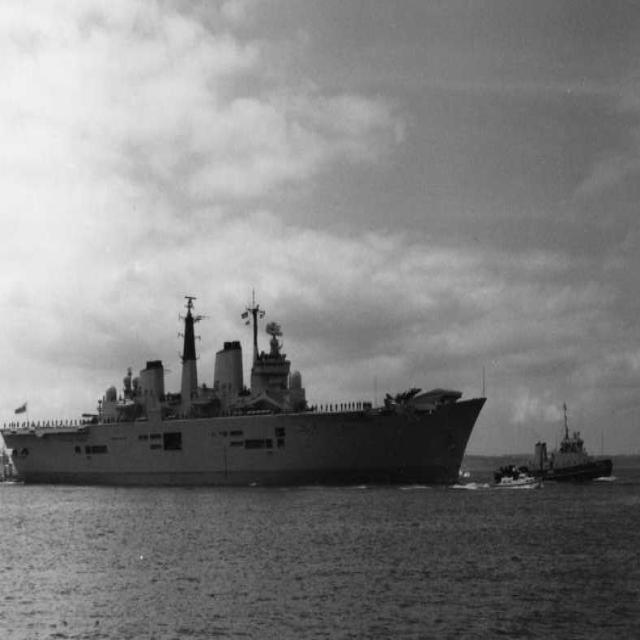Portanaves: (1, 285, 490, 492)
